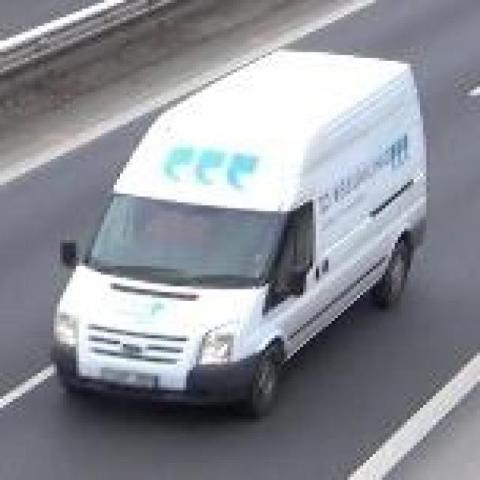van: (50, 51, 420, 418)
